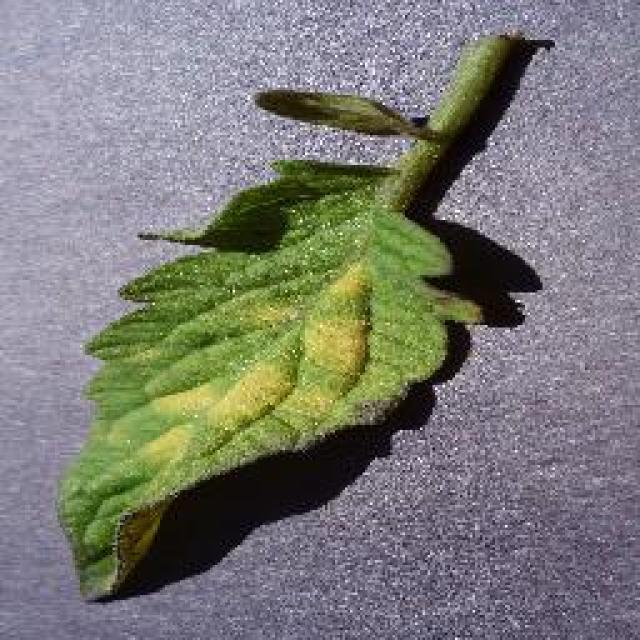Tomato___Leaf_Mold: (58, 35, 515, 592)
